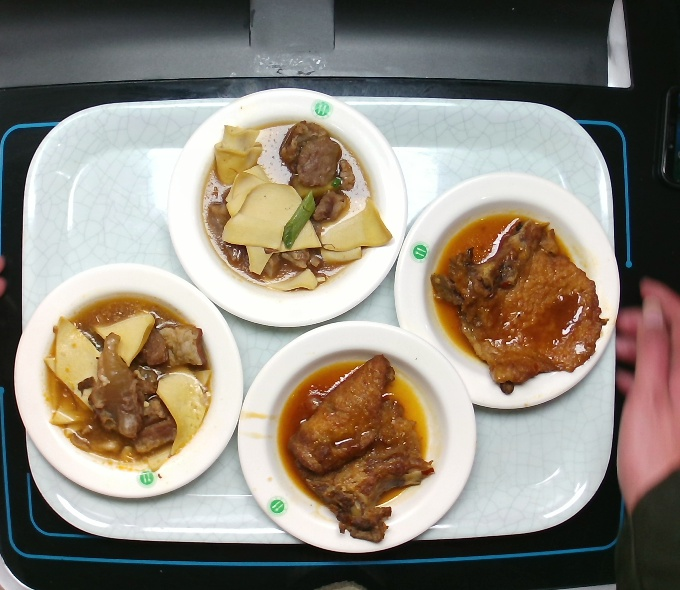wcq-DaPai: (428, 226, 615, 395), (292, 350, 448, 542)
wcq-QianZhangNiuRou: (29, 293, 216, 474), (196, 114, 383, 295)
